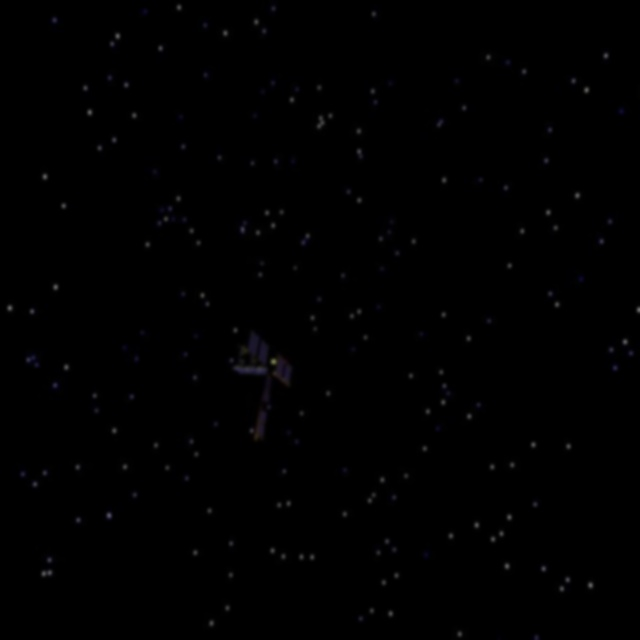medium_debris: (220, 324, 301, 451)
